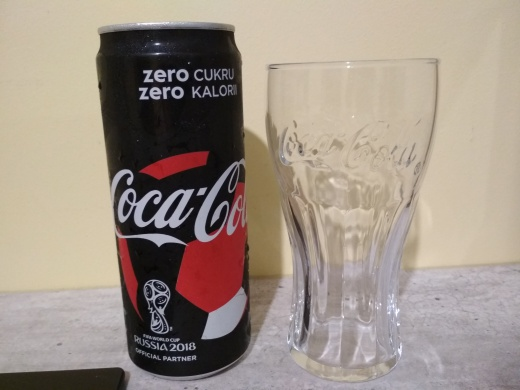colazero: (90, 19, 253, 380)
